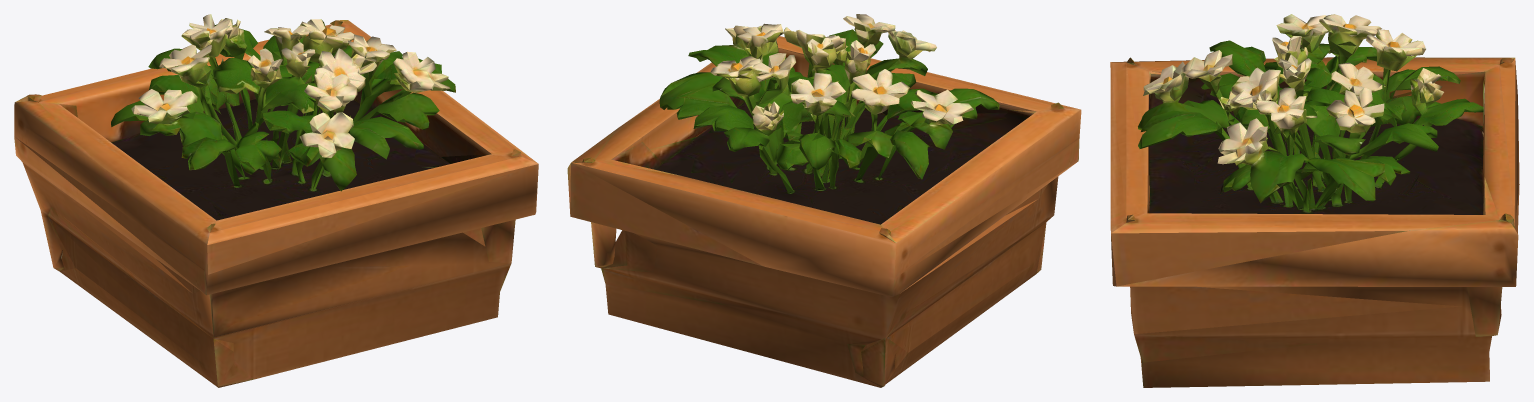
The model's file is flower_box.gltf.
The picture shows the model from 3 angles, left to right: view 1: azimuth 30°, elevation 25°; view 2: azimuth 150°, elevation 25°; view 3: azimuth 270°, elevation 25°; orthographic projection. The views are drawn at different scales.
Visible parts, largest first — view 1: flower_box; view 2: flower_box; view 3: flower_box.
Part boxes in pixels (x1,y1,x2,y2): flower_box: (14,14,538,387); flower_box: (567,14,1081,387); flower_box: (1110,14,1519,387).
Size of the model in its own units: 1.6 by 1.17 by 1.59.
Materials: 1 (1 with a texture image).
